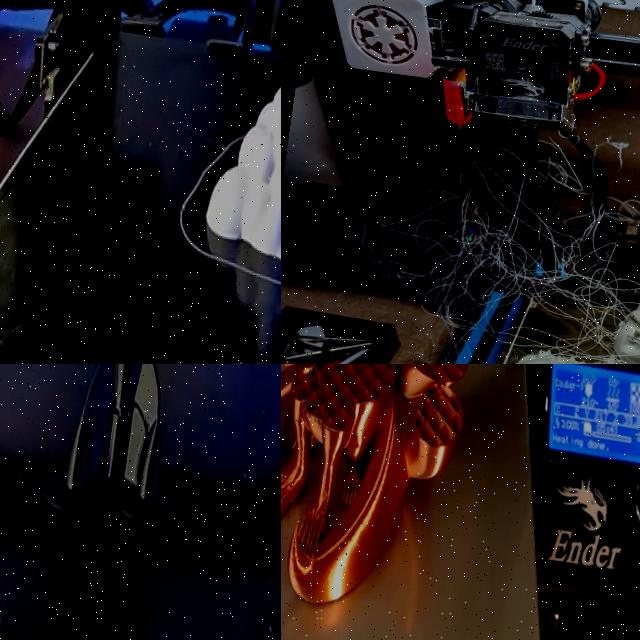spaghetti: (328, 85, 640, 364)
